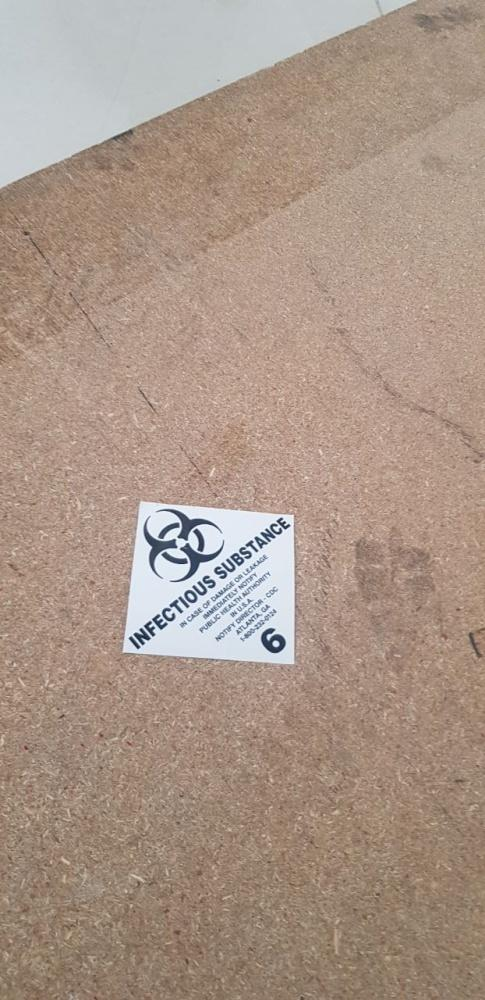infectious-substance: (119, 498, 300, 663)
